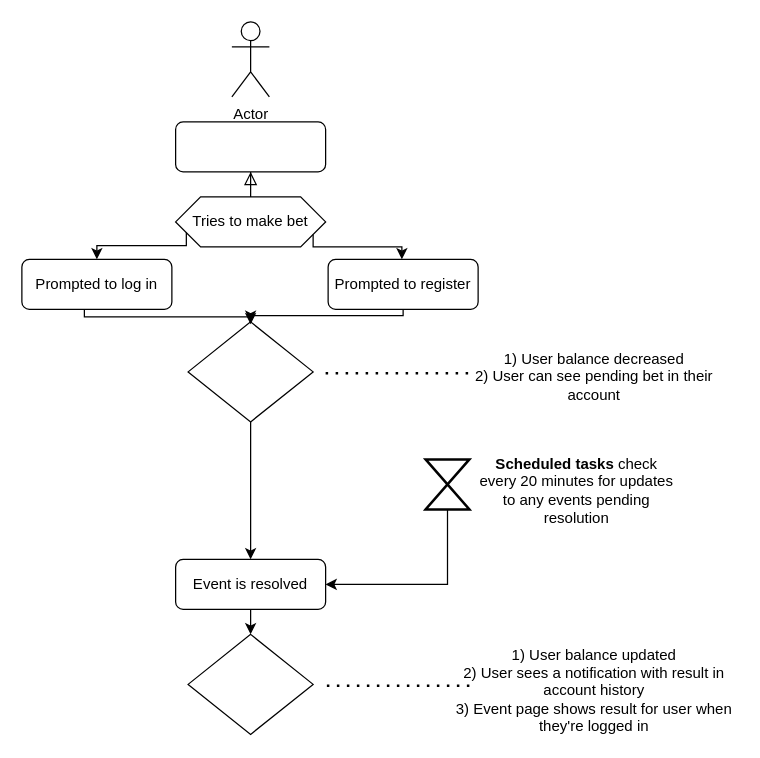
Some shapes in this 760 by 758 pixel diagram are drawn without their labels. Here are the shapes that lost their labels. From the top down, the centre of each, then its label:
the point at 250,146: User visits site and views event
the point at 250,371: Completes bet
the point at 250,683: User's bet is resolved
